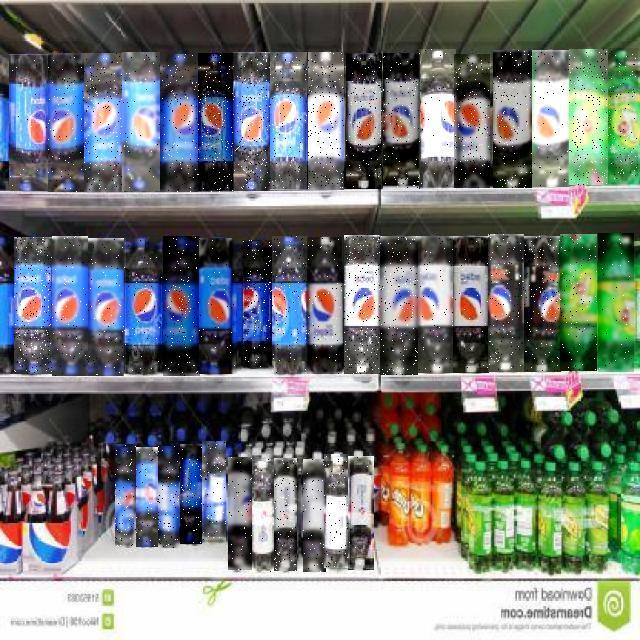Drinks: (84, 53, 124, 192), (493, 50, 532, 188), (9, 54, 48, 191), (569, 49, 608, 185), (380, 236, 418, 375), (122, 52, 160, 191), (88, 238, 126, 376), (124, 238, 162, 376), (160, 54, 198, 192), (532, 50, 570, 187), (14, 237, 52, 374), (419, 49, 456, 189), (163, 236, 200, 376), (233, 52, 270, 191), (270, 52, 307, 190), (560, 234, 597, 371), (52, 236, 88, 376), (383, 54, 420, 190), (524, 236, 561, 372), (345, 235, 381, 374), (598, 233, 634, 372), (48, 53, 84, 192), (198, 53, 234, 192), (308, 52, 344, 190), (488, 234, 524, 372), (272, 236, 308, 373), (453, 236, 489, 373), (346, 53, 382, 189), (200, 238, 236, 374), (455, 55, 491, 189), (307, 237, 342, 374), (418, 236, 453, 373), (608, 48, 638, 184), (243, 240, 272, 369), (324, 455, 350, 569), (348, 456, 374, 570), (228, 458, 252, 572), (274, 458, 297, 571), (303, 459, 326, 572), (252, 459, 274, 572), (202, 442, 226, 542), (180, 445, 202, 545), (136, 447, 158, 547), (115, 444, 136, 548), (158, 446, 179, 548)
